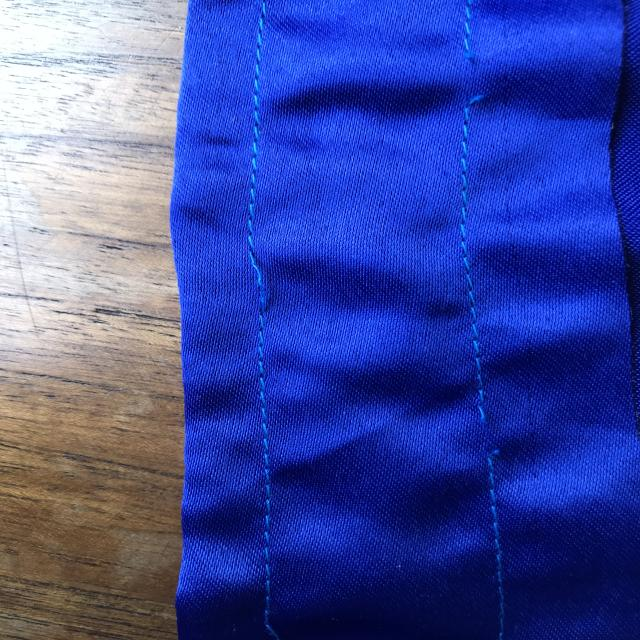broken: (445, 24, 517, 119), (460, 384, 526, 482)
good: (446, 176, 491, 306)
skip: (214, 220, 288, 319)
